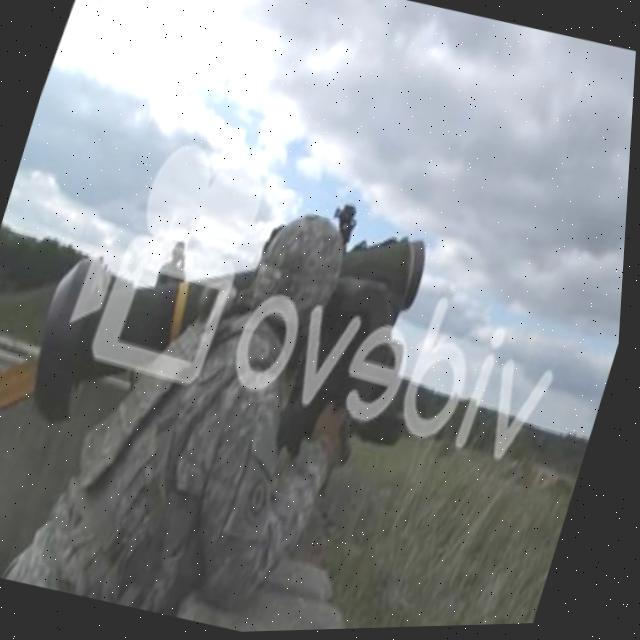rocket: (7, 136, 448, 514)
